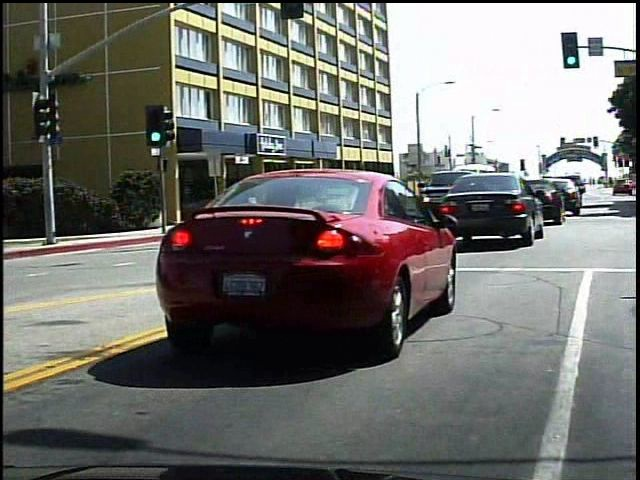person: (276, 183, 295, 220)
